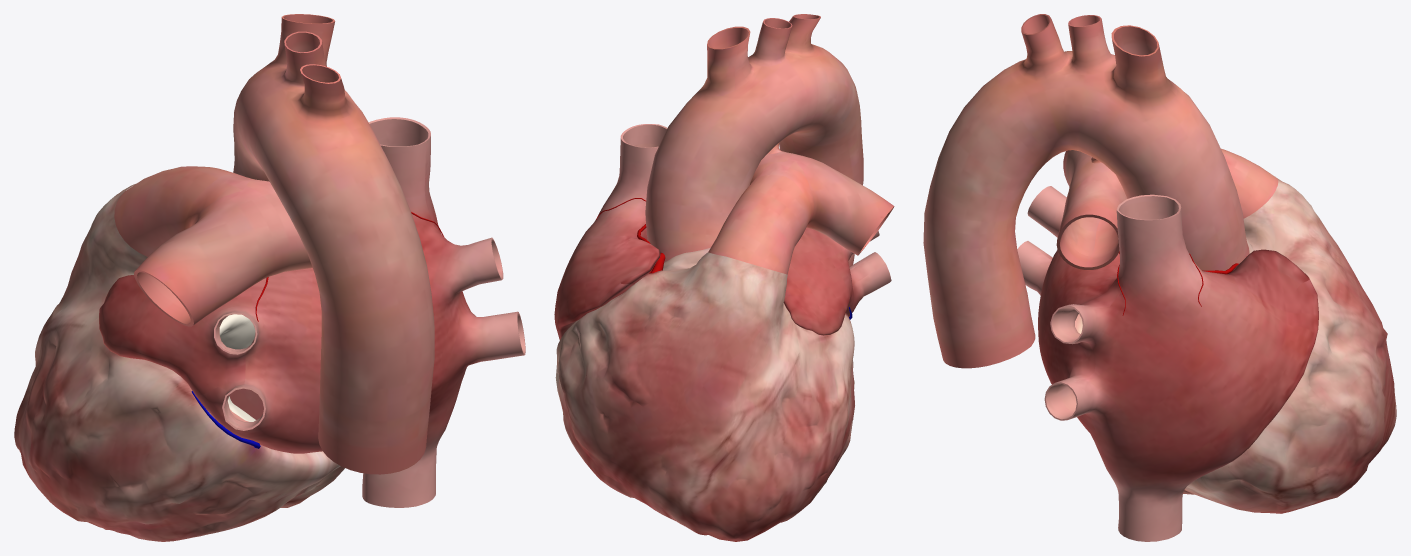
The model's file is heart.glb.
3 views of the same model, side by side, from view 1: azimuth 30°, elevation 25°; view 2: azimuth 150°, elevation 25°; view 3: azimuth 270°, elevation 25° (orthographic). The views are drawn at different scales.
Parts seen in each view (by area): view 1: aorta_1, cardiac_fat_1, left_atrium_1, pulmonary_trunk_1, right_atrium_1, left_auricle_1, mitral_valve_1, interventricular_septum_wall_1; view 2: cardiac_fat_1, aorta_1, pulmonary_trunk_1, right_atrium_1, left_auricle_1, right_auricle_1, left_atrium_1; view 3: aorta_1, right_atrium_1, cardiac_fat_1, left_atrium_1, pulmonary_trunk_1, right_auricle_1.
Boxes of the visible parts, bbox=[...] form: aorta_1: bbox=[233, 14, 434, 474]; cardiac_fat_1: bbox=[14, 184, 344, 541]; left_atrium_1: bbox=[158, 236, 525, 453]; pulmonary_trunk_1: bbox=[114, 166, 312, 326]; right_atrium_1: bbox=[362, 117, 465, 507]; left_auricle_1: bbox=[99, 275, 168, 364]; mitral_valve_1: bbox=[219, 314, 255, 421]; interventricular_septum_wall_1: bbox=[229, 388, 263, 419]; cardiac_fat_1: bbox=[555, 248, 854, 541]; aorta_1: bbox=[645, 14, 863, 266]; pulmonary_trunk_1: bbox=[708, 151, 894, 274]; right_atrium_1: bbox=[554, 124, 667, 339]; left_auricle_1: bbox=[783, 255, 849, 335]; right_auricle_1: bbox=[558, 238, 660, 329]; left_atrium_1: bbox=[792, 227, 891, 316]; aorta_1: bbox=[923, 14, 1249, 368]; right_atrium_1: bbox=[1090, 194, 1291, 541]; cardiac_fat_1: bbox=[1183, 178, 1396, 513]; left_atrium_1: bbox=[1017, 186, 1119, 435]; pulmonary_trunk_1: bbox=[1056, 148, 1278, 269]; right_auricle_1: bbox=[1233, 249, 1318, 394].
Bounding box in the file's own units: 10.83 × 14.92 × 13.26.
Materials: 9 (5 with a texture image).
